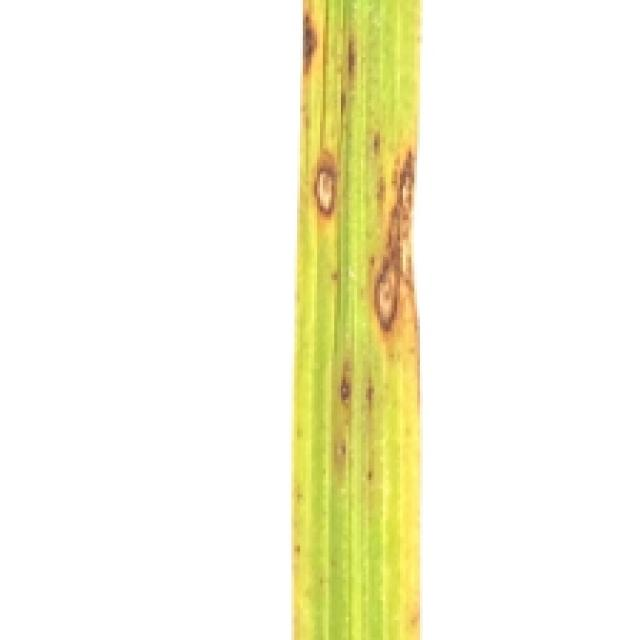Rice___Rice_Blast: (294, 0, 424, 637)
